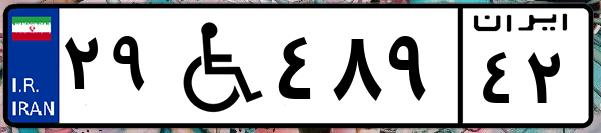2: (57, 26, 110, 100), (525, 38, 570, 115)
4: (270, 28, 330, 110), (475, 38, 525, 113)
8: (330, 28, 385, 110)
9: (385, 28, 445, 110), (110, 28, 158, 98)
ژ (معلولین و جانبازان): (158, 12, 270, 120)
